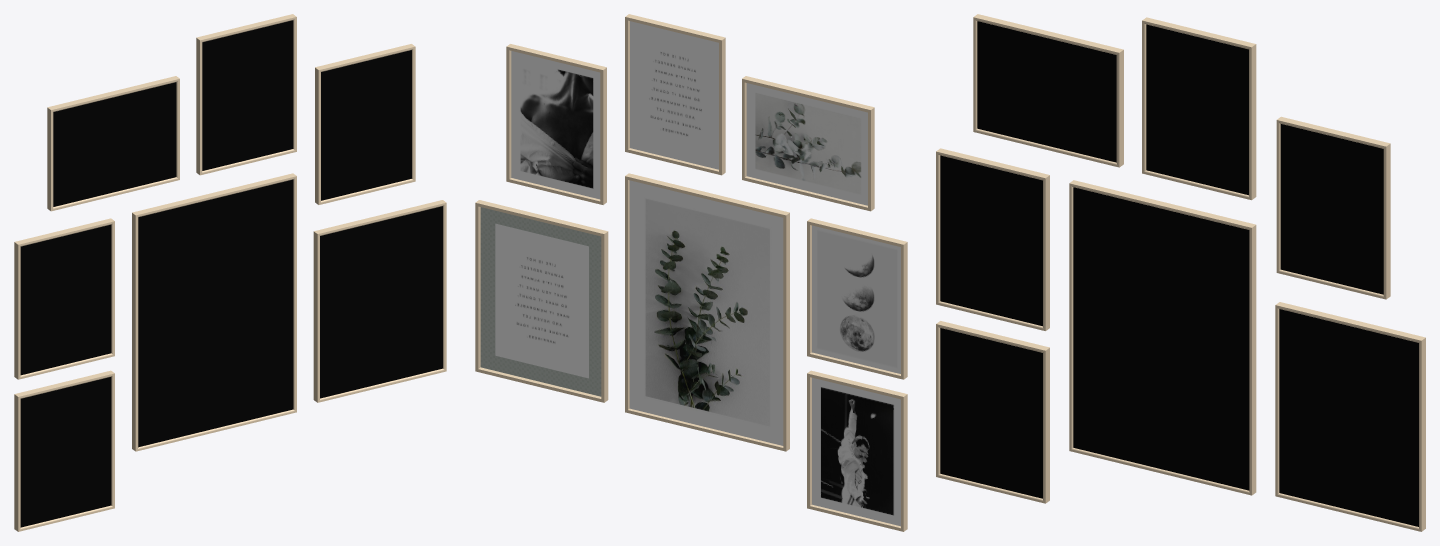
The model's file is frames_decor.glb.
3 views of the same model, side by side, from view 1: azimuth 30°, elevation 25°; view 2: azimuth 150°, elevation 25°; view 3: azimuth 330°, elevation 25° (orthographic). The views are drawn at different scales.
Parts seen in each view (by area): view 1: Material2 (×2); view 2: Material2 (×8); view 3: Material2 (×2).
Part boxes in pixels (<box>): Material2 (×2): <box>14,14,446,531</box>; Material2 (×8): <box>475,14,907,531</box>; Material2 (×2): <box>936,14,1425,531</box>.
Size of the model in its own units: 52.31 by 52.17 by 0.8268.
10 materials, 7 textured.
